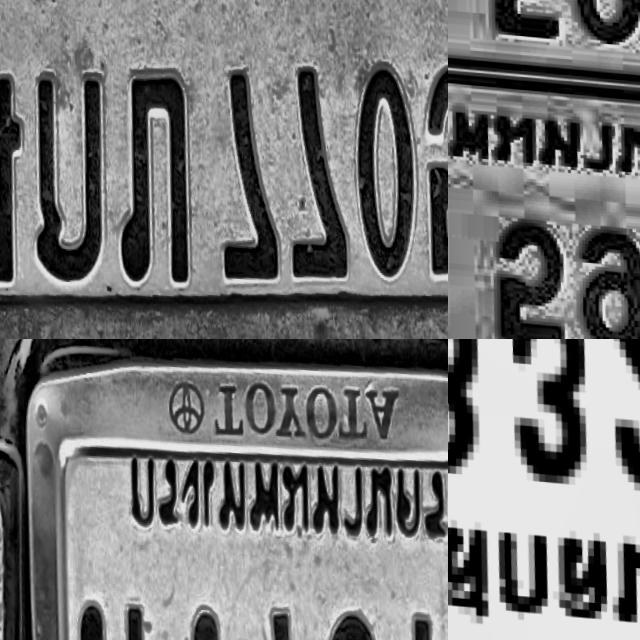license-plate: (0, 0, 448, 339), (0, 339, 448, 640), (448, 339, 640, 640), (448, 44, 640, 339), (448, 0, 640, 103)
